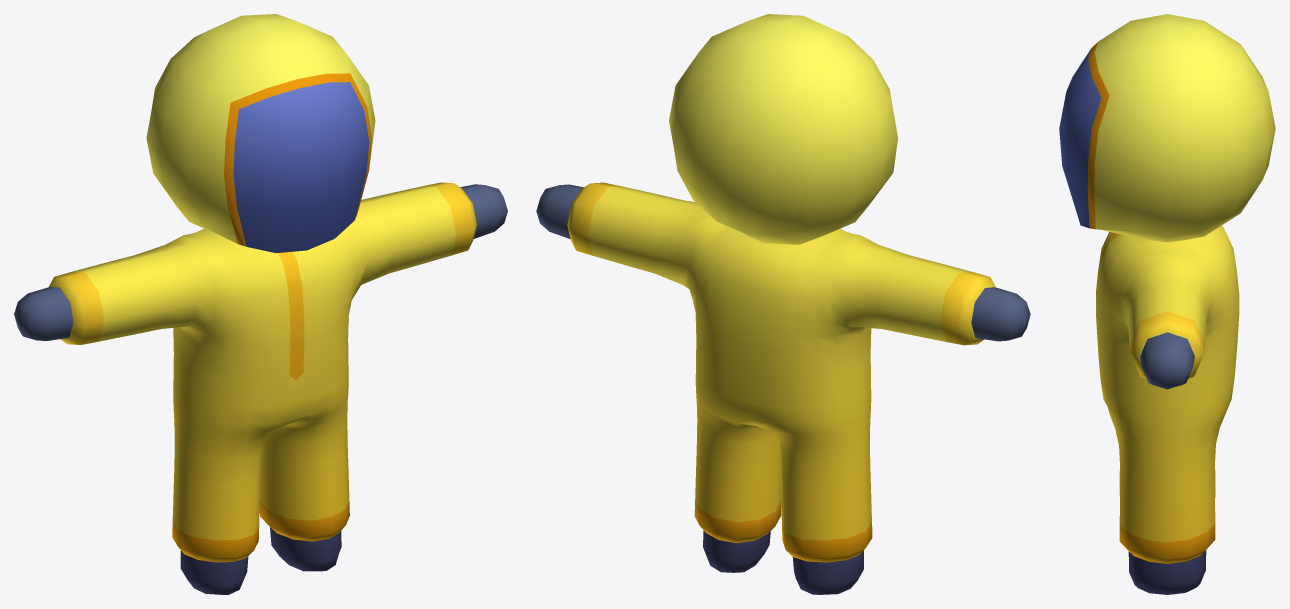
File: HazmatSuit_Stickman.fbx
3 views of the same model, side by side, from view 1: azimuth 30°, elevation 25°; view 2: azimuth 150°, elevation 25°; view 3: azimuth 270°, elevation 25° (orthographic). The views are drawn at different scales.
Visible parts, largest first — view 1: Stickman_HazmatSuit; view 2: Stickman_HazmatSuit; view 3: Stickman_HazmatSuit.
Part boxes in pixels (box(x1,y1,x2,y2)): Stickman_HazmatSuit: box(14, 14, 507, 594); Stickman_HazmatSuit: box(536, 14, 1030, 594); Stickman_HazmatSuit: box(1059, 14, 1275, 594).
Bounding box in the file's own units: 362 × 1002 × 919.
